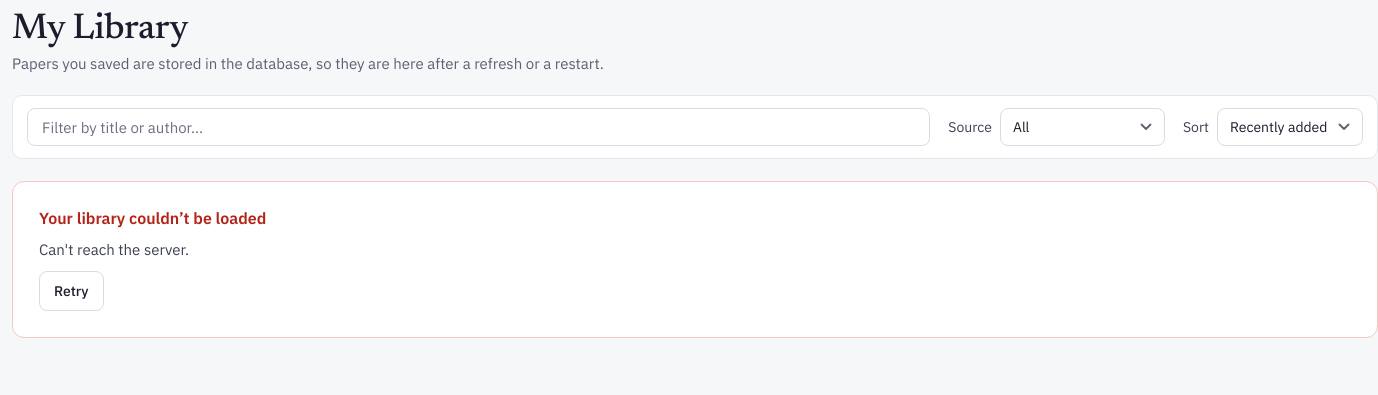
Scenario: LibraryPage › shows an error with a working retry button
This screenshot has width=1378, height=395.
Expected: the message shows "Can't reach the server.", [39,240,189,259]
Click the button "Retry" at (71, 291), box [39,271,104,311]
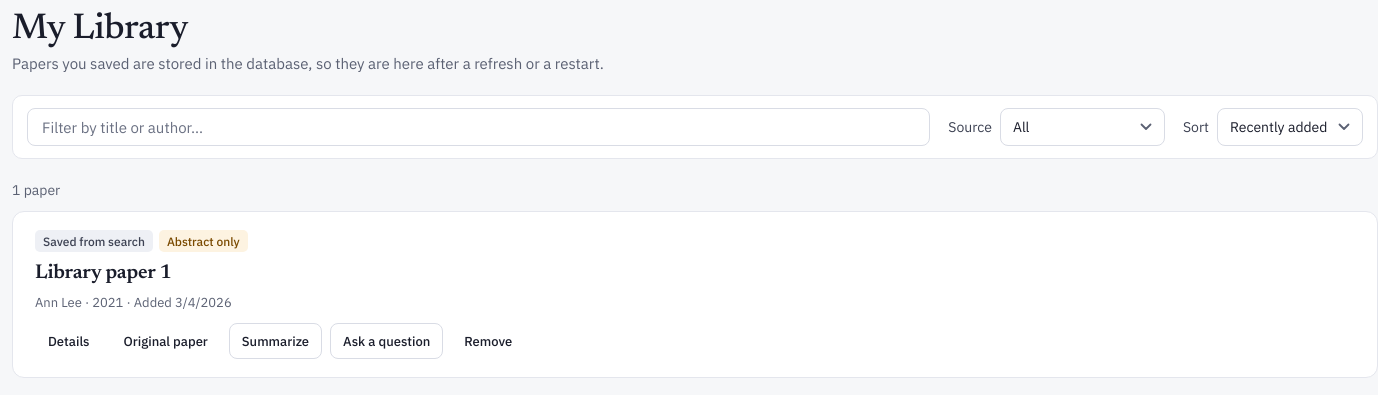
Expected: the link "Library paper 1" is shown, [35,263,172,283]
